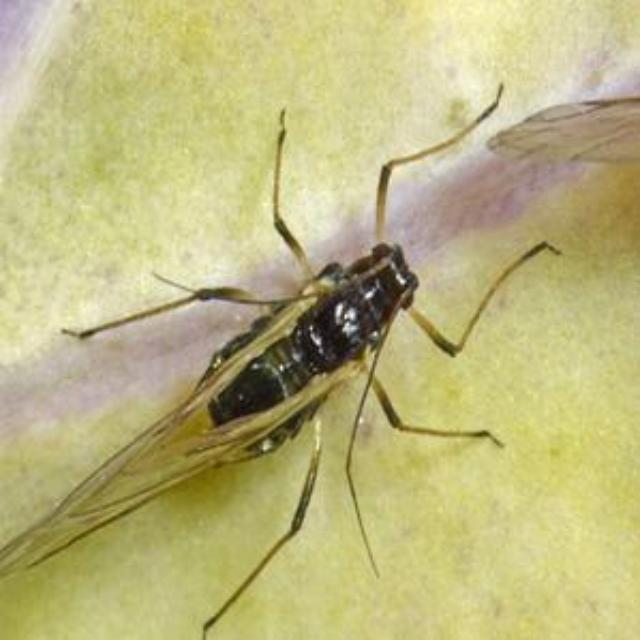Green peach aphid: (1, 78, 600, 640)
